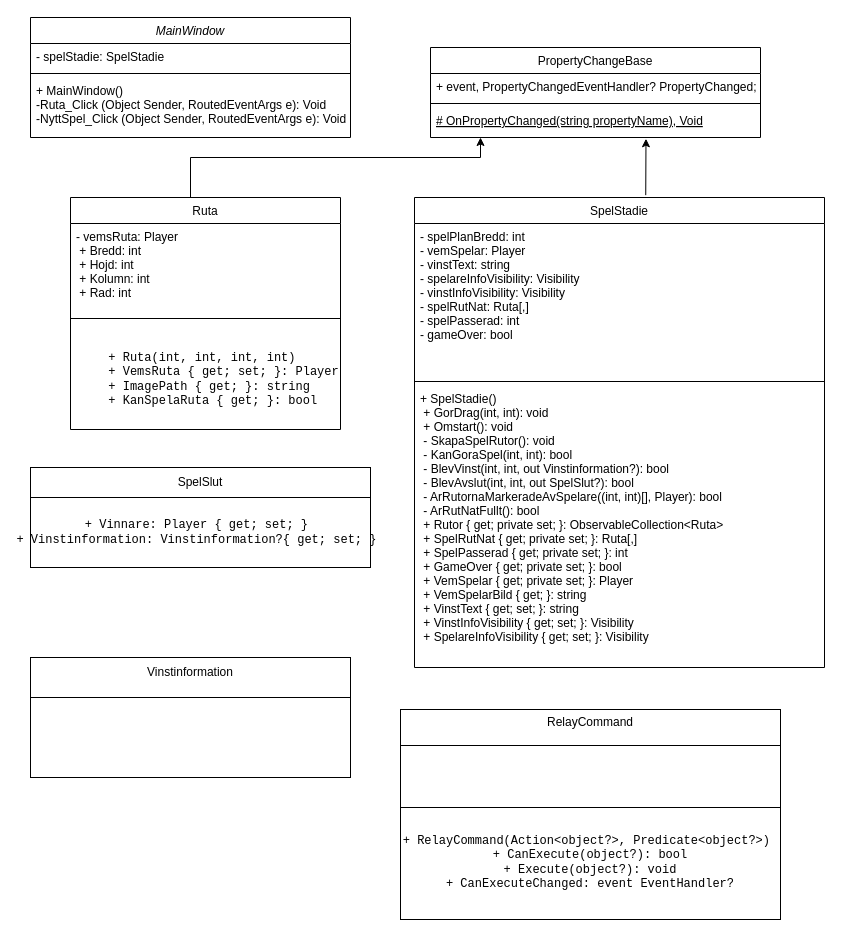
The diagram is 842 pixels wide and 937 high, and some of its shapes have lost their labels. The shapes that lost their labels are listed below. From the top down, each one's box as (x1, y1, x2, y2) in pixels, then its label:
(30, 696, 350, 778): + Type: VinstTyp { get; set; } + Nummer: int { get; set; }
(400, 744, 780, 808): - canExecute: Predicate<object?> - execute: Action<object?>
